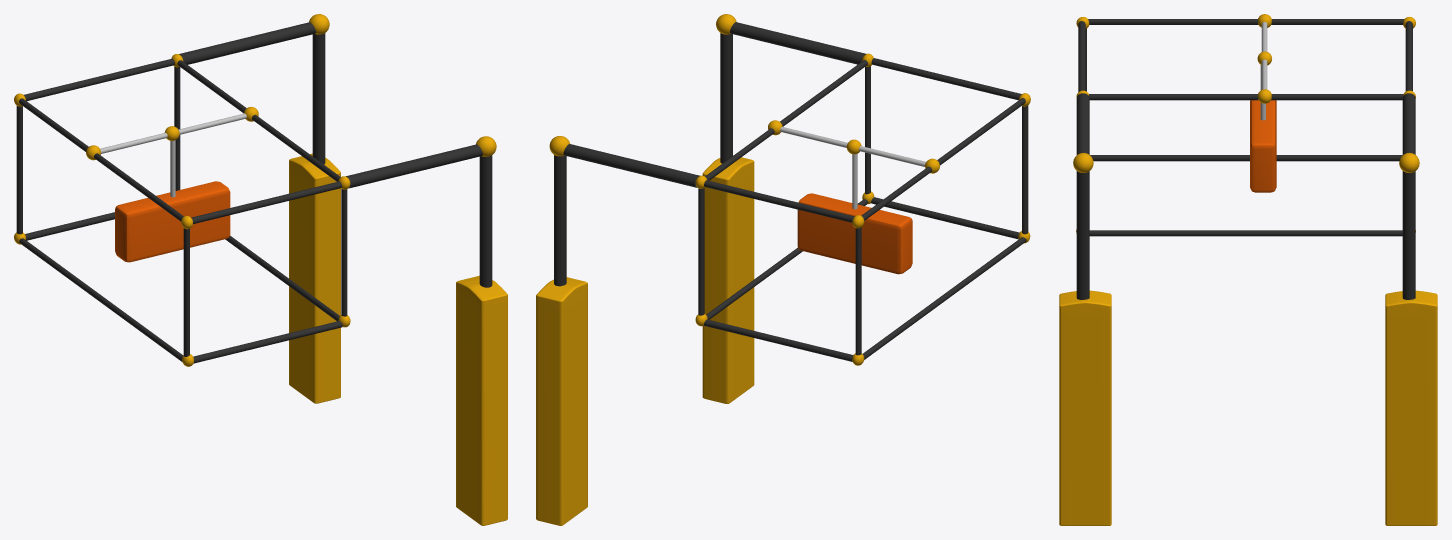
The picture shows the model from 3 angles, left to right: view 1: azimuth 30°, elevation 25°; view 2: azimuth 150°, elevation 25°; view 3: azimuth 270°, elevation 25°; orthographic projection. The views are drawn at different scales.
Visible parts, largest first — view 1: polySurface789, polySurface793, pCube36; view 2: polySurface789, polySurface793, pCube36; view 3: polySurface789, polySurface793, pCube36.
Boxes of the visible parts, x1=… form: polySurface789: x1=179, y1=14, x2=507, y2=525; polySurface793: x1=14, y1=54, x2=350, y2=366; pCube36: x1=86, y1=106, x2=258, y2=262; polySurface789: x1=536, y1=14, x2=865, y2=525; polySurface793: x1=695, y1=53, x2=1030, y2=365; pCube36: x1=768, y1=120, x2=939, y2=274; polySurface789: x1=1059, y1=93, x2=1437, y2=525; polySurface793: x1=1076, y1=17, x2=1415, y2=236; pCube36: x1=1250, y1=14, x2=1276, y2=192.
Size of the model in its own units: 8.69 by 9.89 by 9.22.
